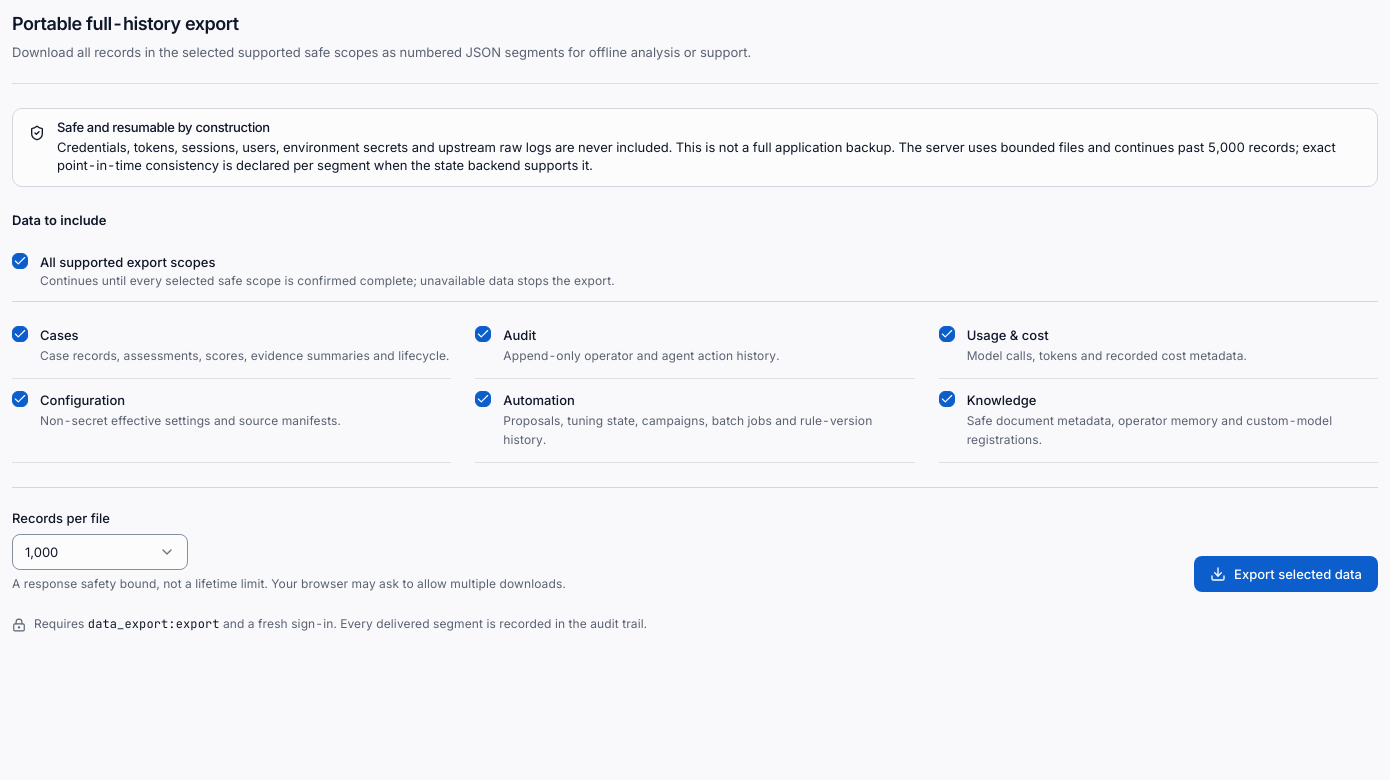
Scenario: DataExportSection › prevents an empty export selection
Step 1. Click the checkbox named "Select all export scopes" → (20, 261), box top-left (12, 253), bottom-right (28, 269)
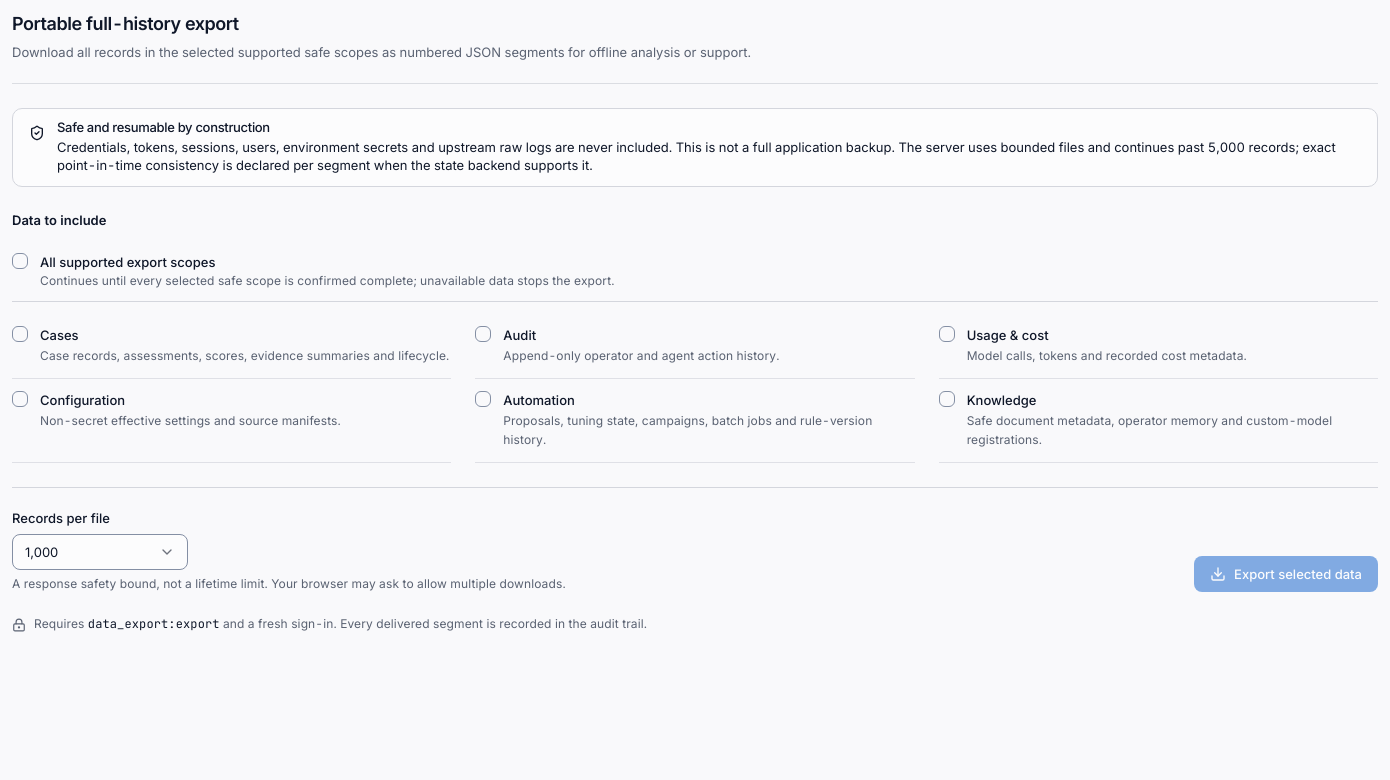
Result: the button "Export selected data" is disabled at top-left (1194, 556), bottom-right (1378, 592)
